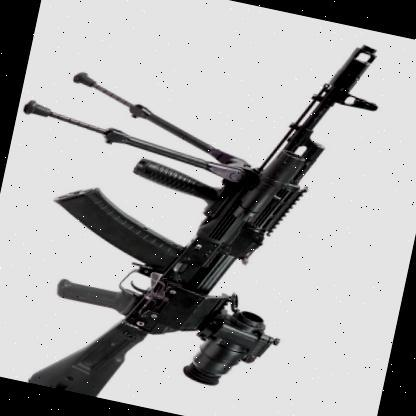rifle: (17, 0, 409, 416)
